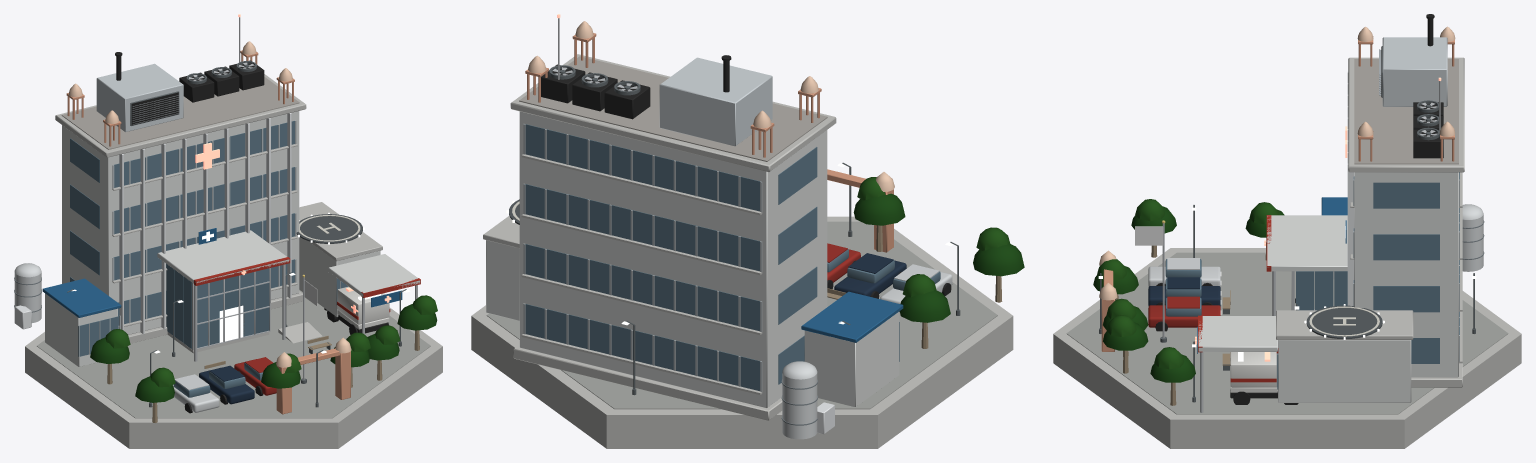
The model's file is hospital_india.glb.
3 renders of one model, left to right at view 1: azimuth 30°, elevation 25°; view 2: azimuth 150°, elevation 25°; view 3: azimuth 270°, elevation 25°, orthographic. The views are drawn at different scales.
Visible parts, largest first — view 1: cladding, wall_concrete, glass, pavers, paint, leaf, gravel, dark, metal, stone, steel_dark, plaster (+3 smaller); view 2: cladding, wall_concrete, glass, pavers, paint, gravel, leaf, dark, stone, steel_dark, plaster, wood; view 3: cladding, wall_concrete, pavers, paint, glass, gravel, leaf, dark, metal, steel_dark, stone, plaster (+2 smaller).
Part boxes in pixels (box(x1,y1,x2,y2)): cladding: box(14, 63, 420, 366); wall_concrete: box(25, 74, 442, 448); glass: box(70, 121, 347, 397); pavers: box(37, 290, 430, 418); paint: box(14, 214, 420, 412); leaf: box(90, 295, 437, 402); gravel: box(61, 77, 299, 149); dark: box(115, 52, 388, 413); metal: box(132, 17, 417, 379); stone: box(66, 50, 350, 414); steel_dark: box(67, 61, 406, 407); plaster: box(68, 41, 351, 367); cladding: box(486, 57, 899, 434); wall_concrete: box(471, 54, 1013, 448); glass: box(525, 124, 940, 391); pavers: box(486, 221, 997, 409); paint: box(509, 199, 952, 439); gravel: box(519, 56, 827, 161); leaf: box(853, 177, 1024, 322); dark: box(541, 55, 951, 298); stone: box(525, 33, 893, 252); steel_dark: box(549, 65, 960, 395); plaster: box(528, 21, 894, 191); wood: box(827, 225, 1002, 348); cladding: box(1198, 37, 1459, 402); wall_concrete: box(1053, 57, 1521, 448); pavers: box(1066, 252, 1508, 414); paint: box(1148, 197, 1484, 392); glass: box(1165, 172, 1459, 389); gravel: box(1354, 59, 1458, 164); leaf: box(1093, 199, 1284, 382); dark: box(1155, 14, 1443, 404); metal: box(1162, 49, 1440, 412); steel_dark: box(1099, 46, 1475, 402); stone: box(1101, 36, 1454, 351); plaster: box(1099, 26, 1455, 300).
Size of the model in its own units: 21.3 by 18.85 by 24.6.
